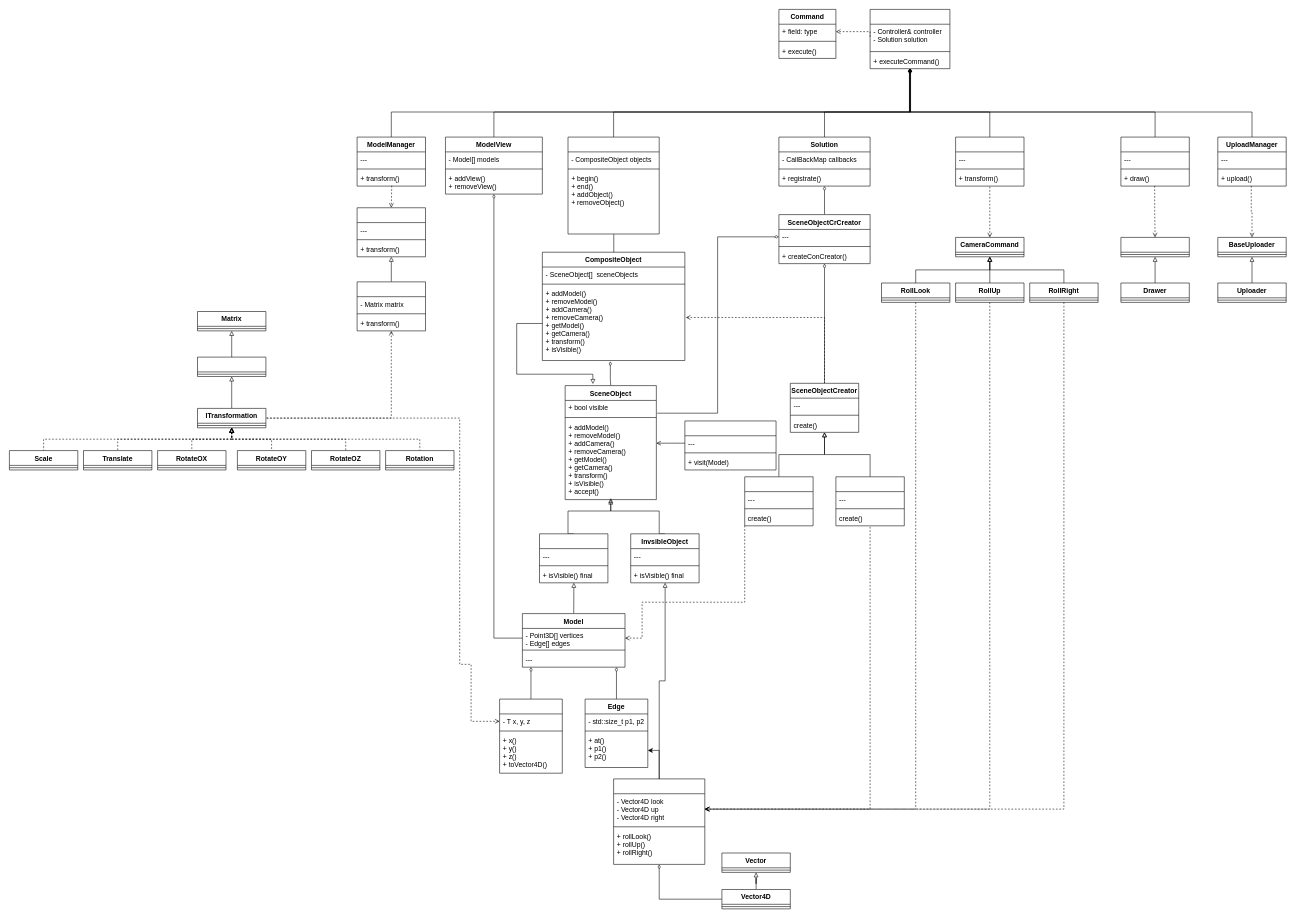
Image size: 1296x918. Some labels were removed from this diagram. Each missing label, with the box of its shape:
BaseDrawer: (1120, 237, 1189, 257)
BaseTransformation: (357, 207, 426, 257)
Camera: (613, 778, 705, 864)
CameraCreator: (835, 476, 904, 526)
CameraManager: (955, 137, 1024, 186)
DrawManager: (1120, 137, 1189, 186)
DrawVisitor: (684, 420, 776, 470)
Facade: (870, 9, 950, 69)
Matrix4x4: (197, 357, 266, 376)
ModelCreator: (744, 476, 813, 526)
Point3D: (499, 699, 562, 773)
Scene: (567, 137, 659, 234)
Transformation: (357, 281, 426, 331)
VisibleObject: (539, 533, 608, 583)
